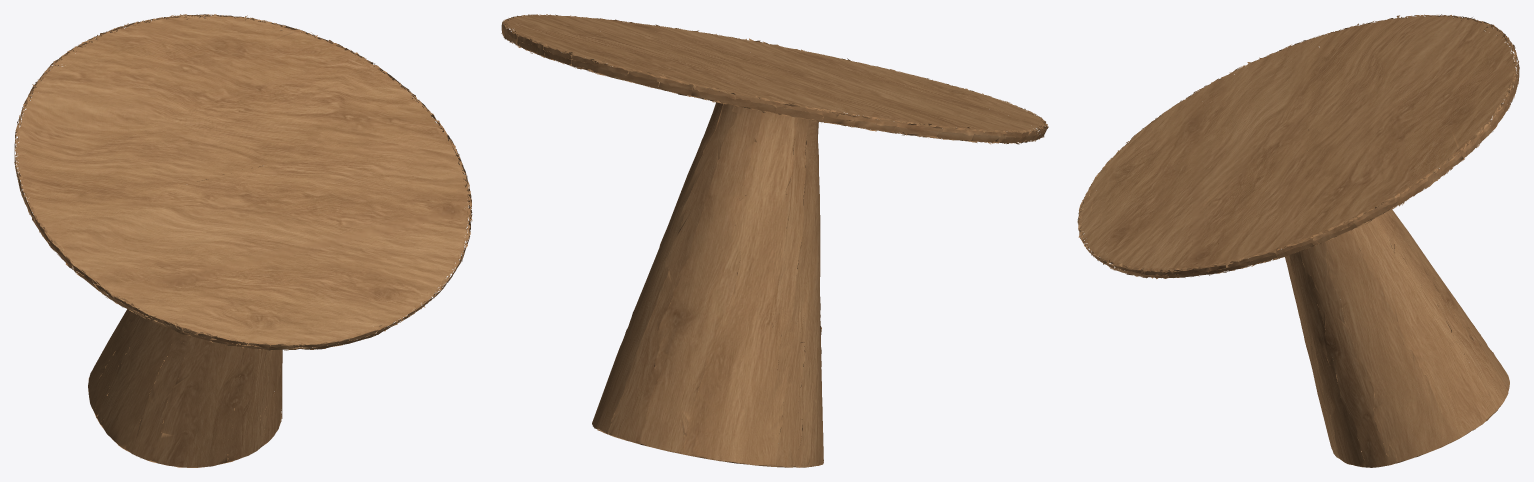
File: table.glb
The picture shows the model from 3 angles, left to right: view 1: azimuth 30°, elevation 25°; view 2: azimuth 150°, elevation 25°; view 3: azimuth 270°, elevation 25°; orthographic projection. The views are drawn at different scales.
Visible parts, largest first — view 1: Mesh_0; view 2: Mesh_0; view 3: Mesh_0.
Boxes of the visible parts, x1,y1,x2,y2 form: Mesh_0: (14, 14, 472, 467); Mesh_0: (501, 14, 1048, 467); Mesh_0: (1077, 14, 1519, 467).
Bounding box in the file's own units: 0.8501 × 0.7545 × 0.7928.
1 material, 1 textured.
